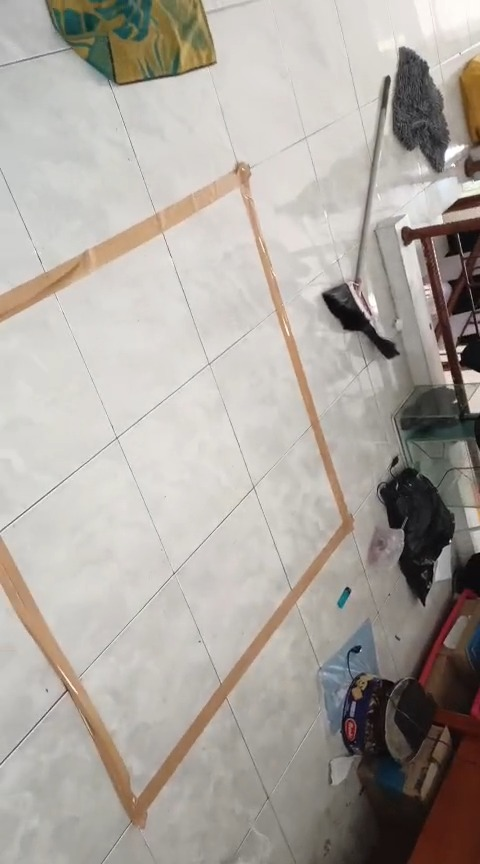floor marking: (0, 163, 352, 827)
